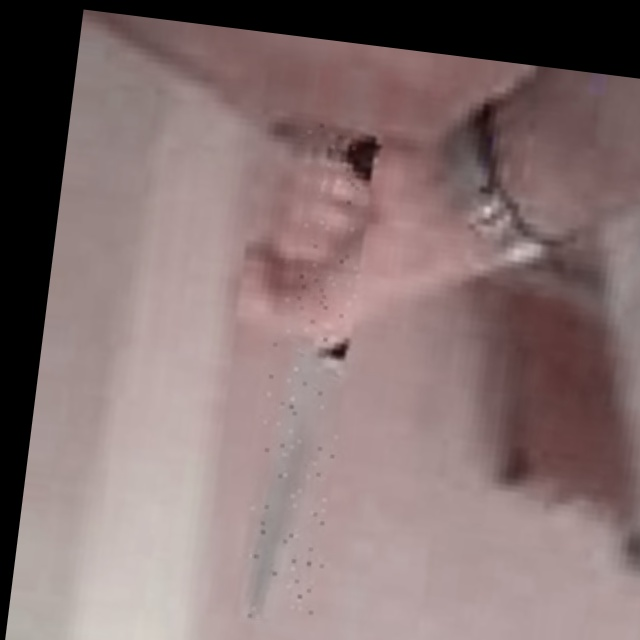Sharp-Object: (239, 123, 377, 627)
